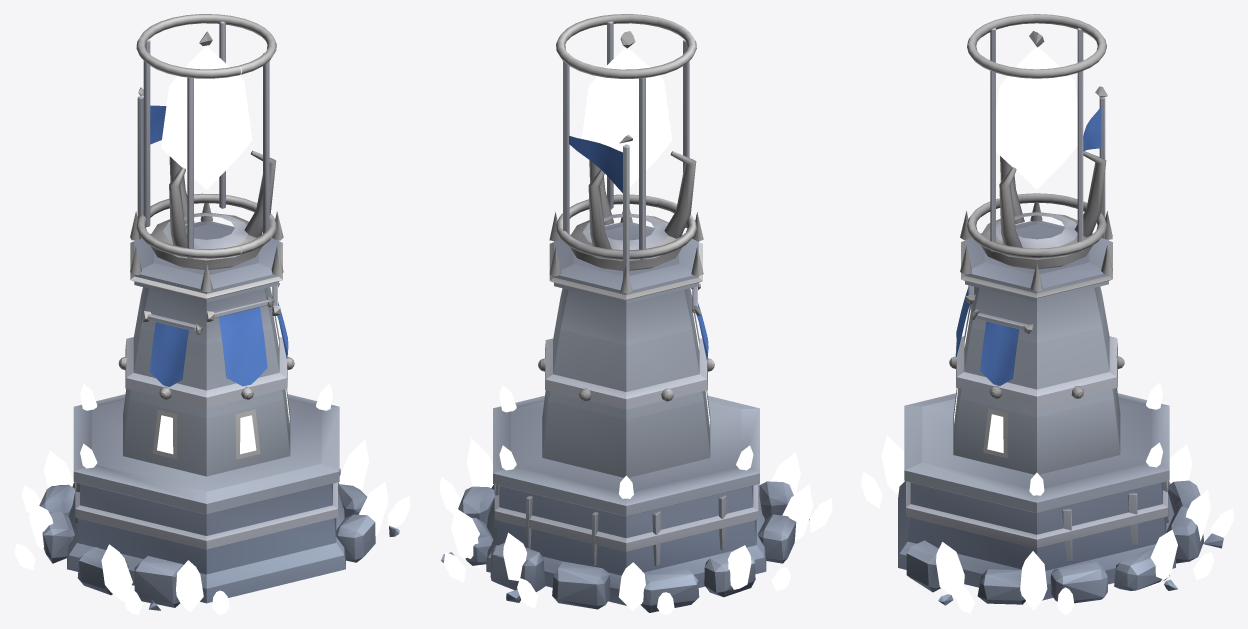
File: frost_1_6.glb
The picture shows the model from 3 angles, left to right: view 1: azimuth 30°, elevation 25°; view 2: azimuth 150°, elevation 25°; view 3: azimuth 270°, elevation 25°; orthographic projection.
Visible parts, largest first — view 1: Tower, Turret; view 2: Tower, Turret; view 3: Tower, Turret.
Boxes of the visible parts, box(x1,y1,x2,y2) form: Tower: box(14, 87, 410, 614); Turret: box(136, 14, 276, 269); Tower: box(439, 134, 832, 614); Turret: box(556, 14, 696, 270); Tower: box(861, 86, 1233, 614); Turret: box(967, 14, 1106, 269).
Bounding box in the file's own units: 4.23 × 6.02 × 3.95.
